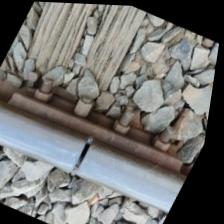person: (49, 121, 124, 186)
